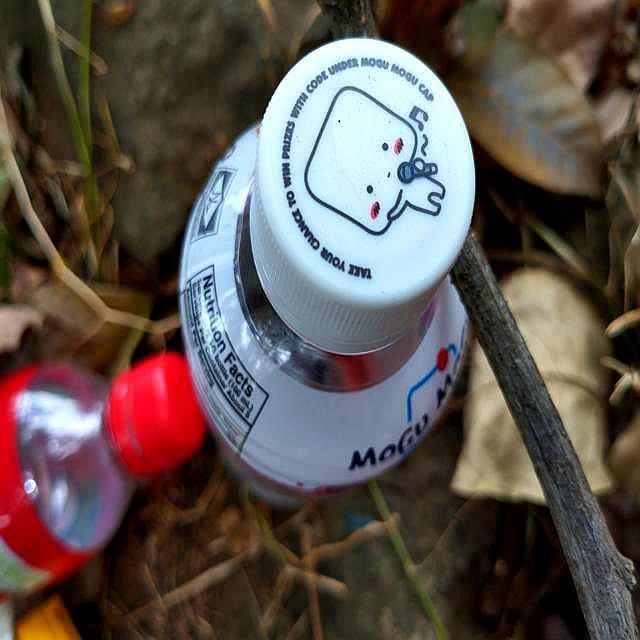Non-biodegradable: (179, 39, 479, 503), (1, 337, 221, 621)
